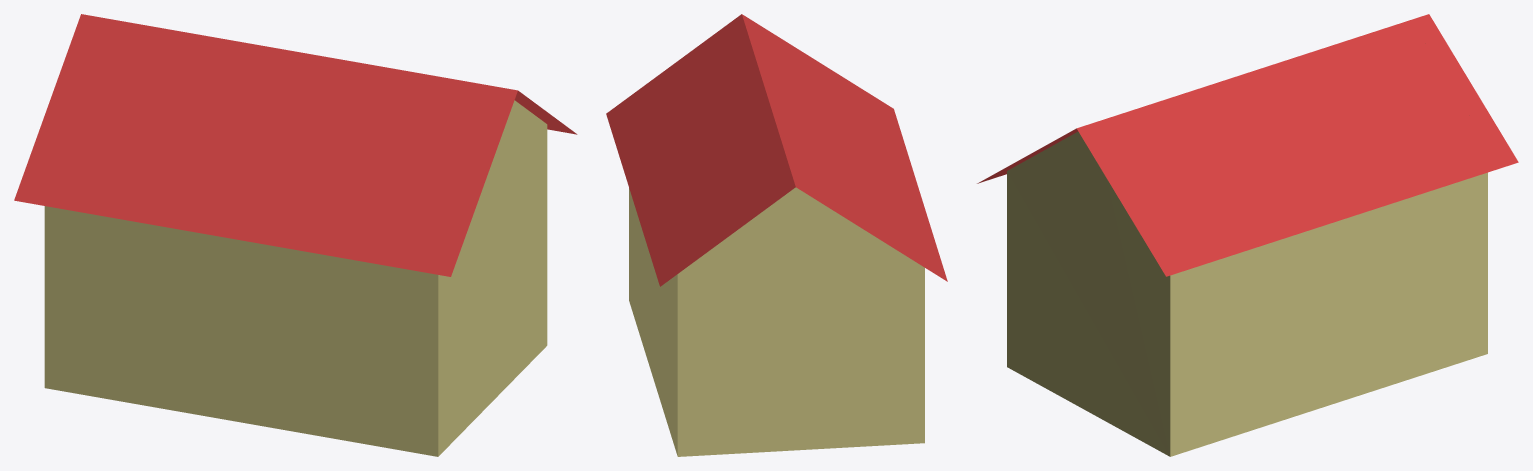
The picture shows the model from 3 angles, left to right: view 1: azimuth 30°, elevation 25°; view 2: azimuth 150°, elevation 25°; view 3: azimuth 270°, elevation 25°; orthographic projection. The views are drawn at different scales.
Bounding box in the file's own units: 23.45 × 24.56 × 14.6.
